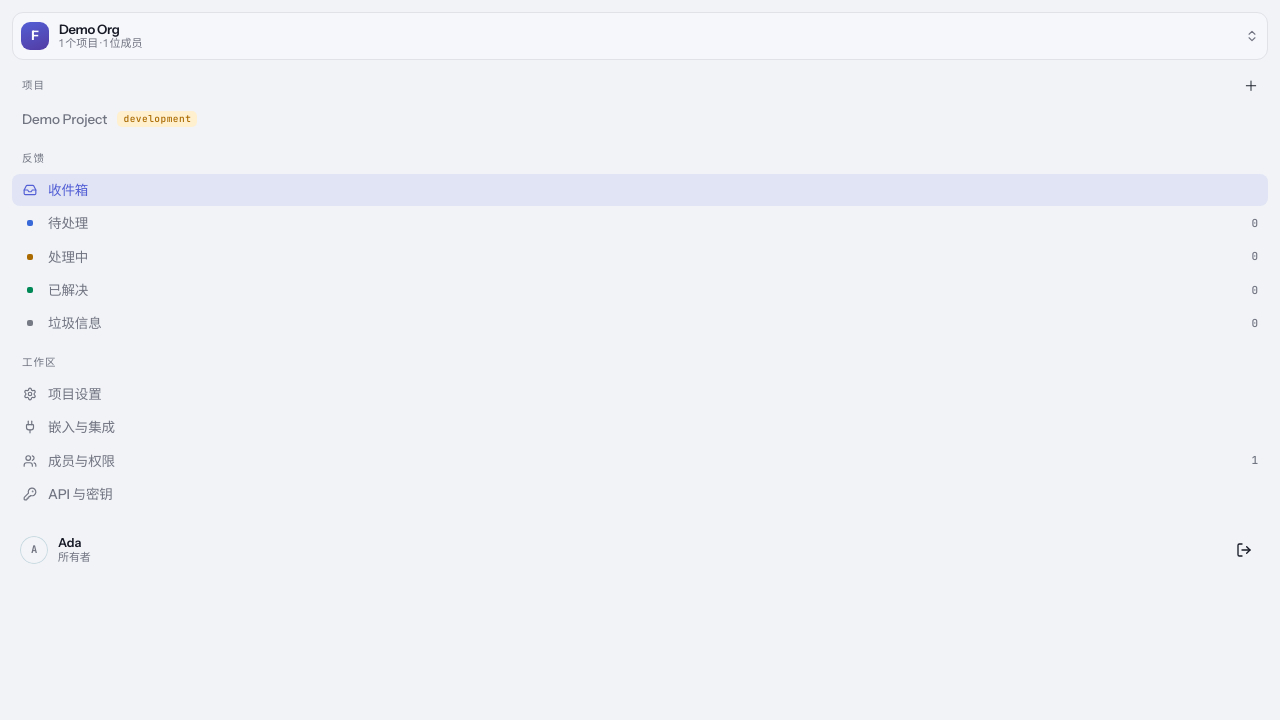
WorkspaceSidebarContent create project › shows the write key once the project is created
Click the button named "新建项目". click: click(1251, 86)
box: [1244,76,1258,96]
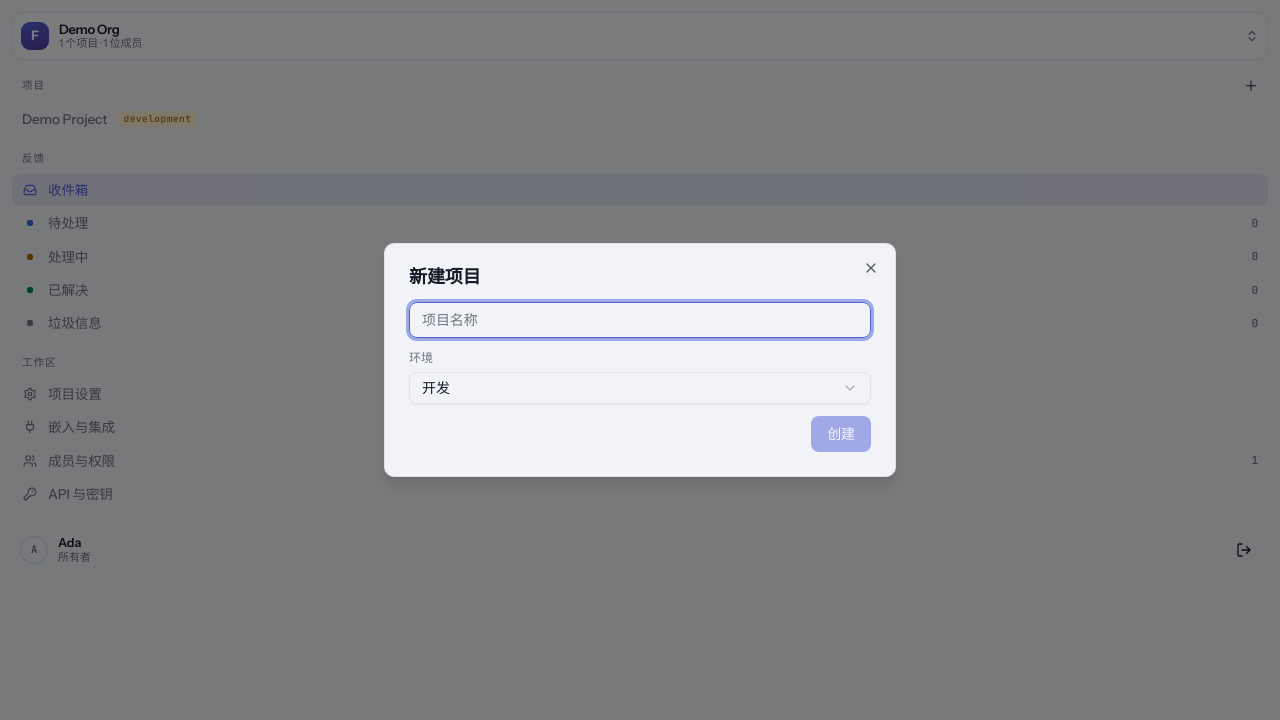
Type "New Project" into the field with placeholder "项目名称". click: (640, 320)
box: [409,302,871,338]
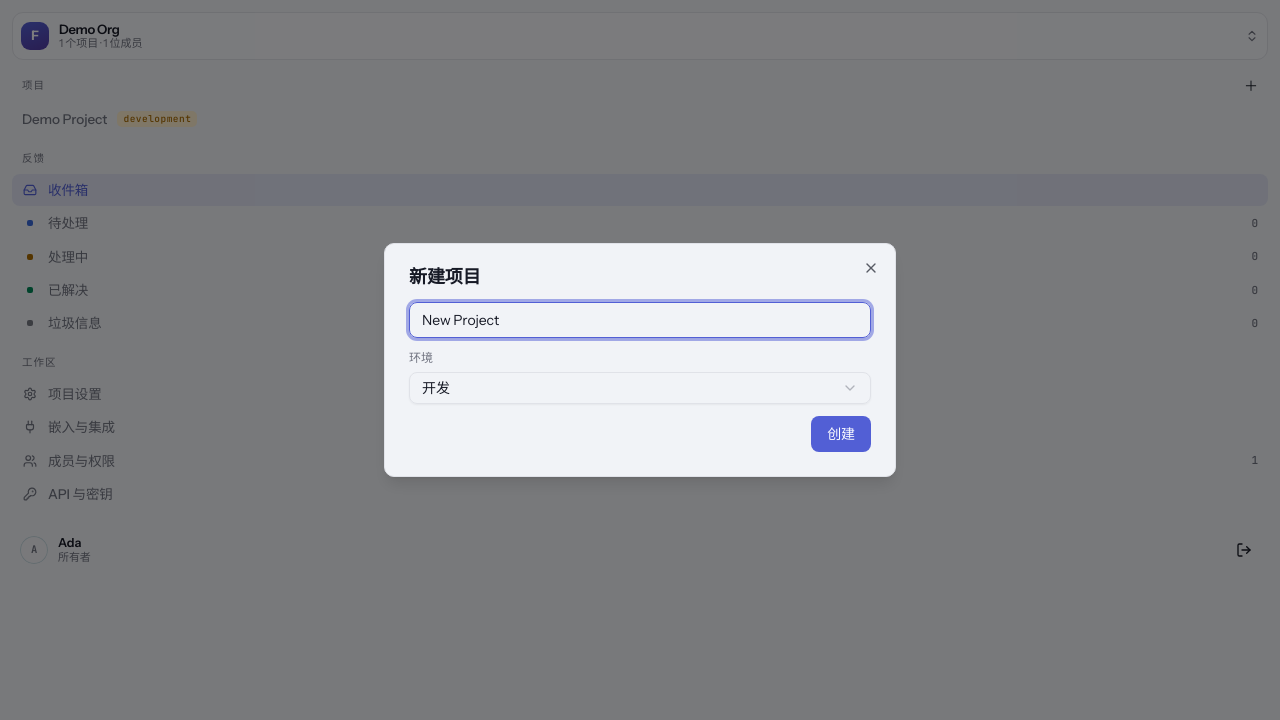
Click the button "创建". click: click(841, 434)
box: [811,416,871,452]
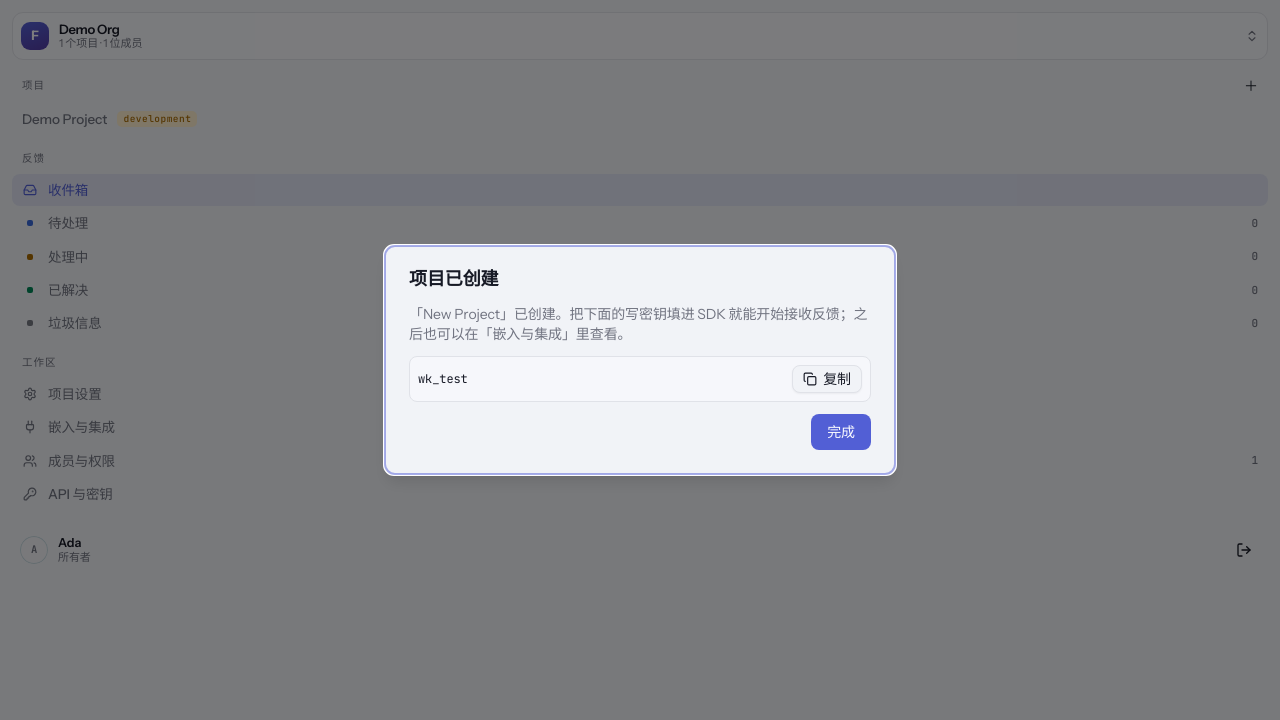
Expected: the text "wk_test" is shown, [418,371,468,387]
